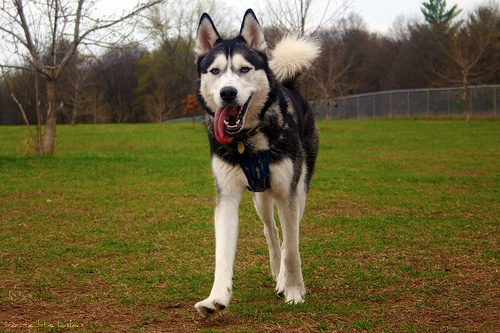dog: (194, 10, 320, 316)
